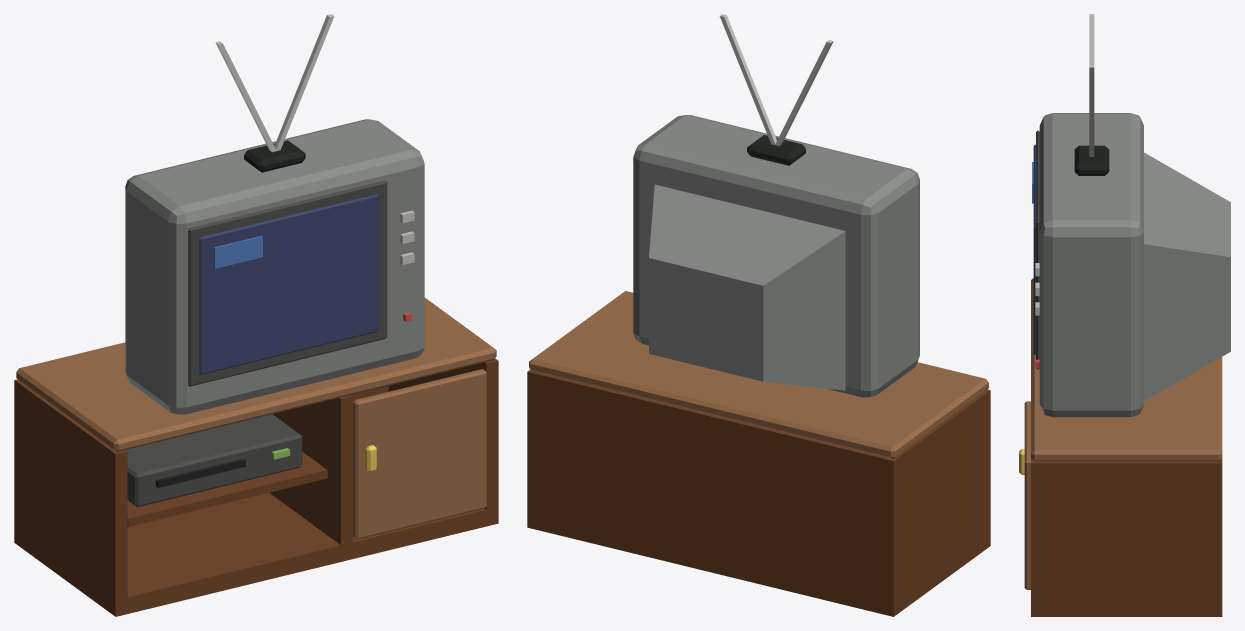
The model's file is crt_tv.glb.
The picture shows the model from 3 angles, left to right: view 1: azimuth 30°, elevation 25°; view 2: azimuth 150°, elevation 25°; view 3: azimuth 270°, elevation 25°; orthographic projection. The views are drawn at different scales.
Visible parts, largest first — view 1: crt_tv; view 2: crt_tv; view 3: crt_tv.
Boxes of the visible parts, x1,y1,x2,y2 form: crt_tv: (14, 14, 498, 616); crt_tv: (527, 14, 990, 616); crt_tv: (1019, 14, 1230, 616).
Bounding box in the file's own units: 0.96 × 1.24 × 0.4875.
1 material, 1 textured.
